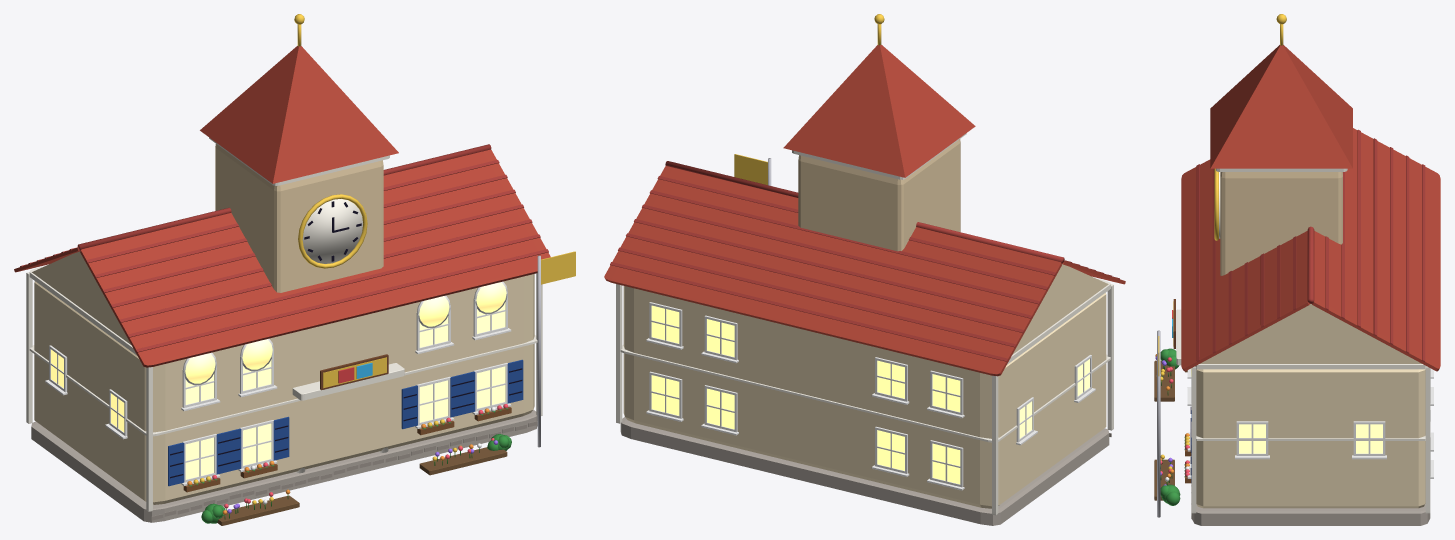
File: skola.glb
3 views of the same model, side by side, from view 1: azimuth 30°, elevation 25°; view 2: azimuth 150°, elevation 25°; view 3: azimuth 270°, elevation 25° (orthographic). The views are drawn at different scales.
Visible parts, largest first — view 1: skola; view 2: skola; view 3: skola.
Part boxes in pixels (<box>): skola: <box>14,14,575,525</box>; skola: <box>604,14,1125,525</box>; skola: <box>1154,14,1440,525</box>.
Bounding box in the file's own units: 16.12 × 15.88 × 9.78.
Materials: 2 (2 with a texture image).
